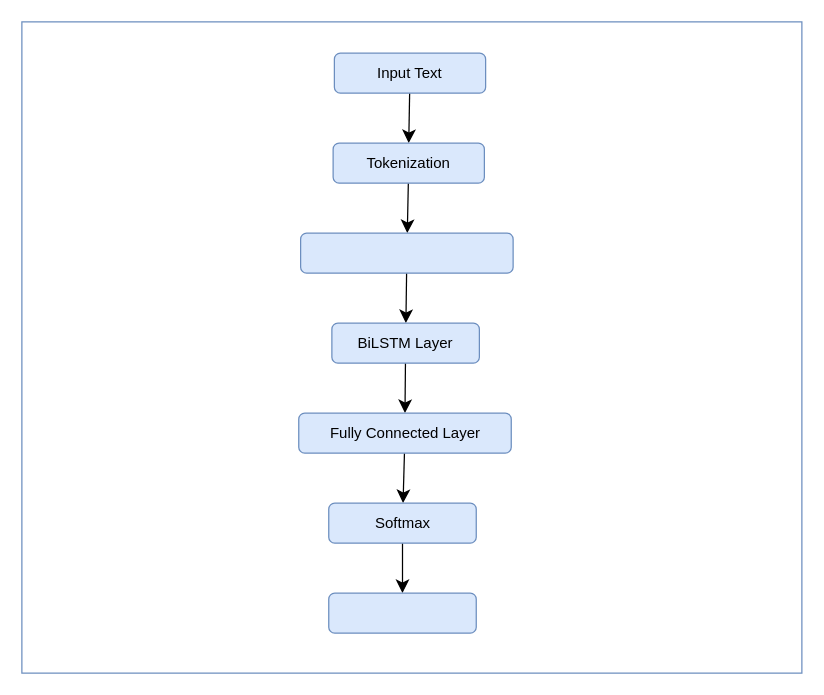
The diagram is 824 pixels wide and 695 high, and some of its shapes have lost their labels. The shapes that lost their labels are listed below. From the top down, each one's centre as x and y in pixels, then its label:
At pixel 406 252: "Word Embeddings".
At pixel 402 612: "PHI Labels".
